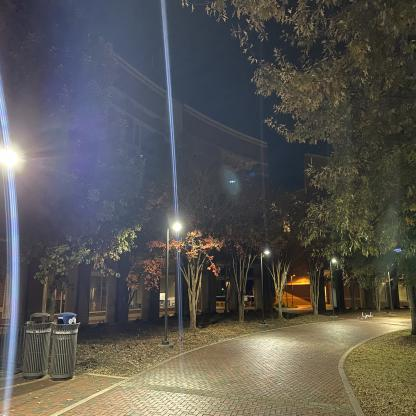eb2: (15, 19, 269, 316)
